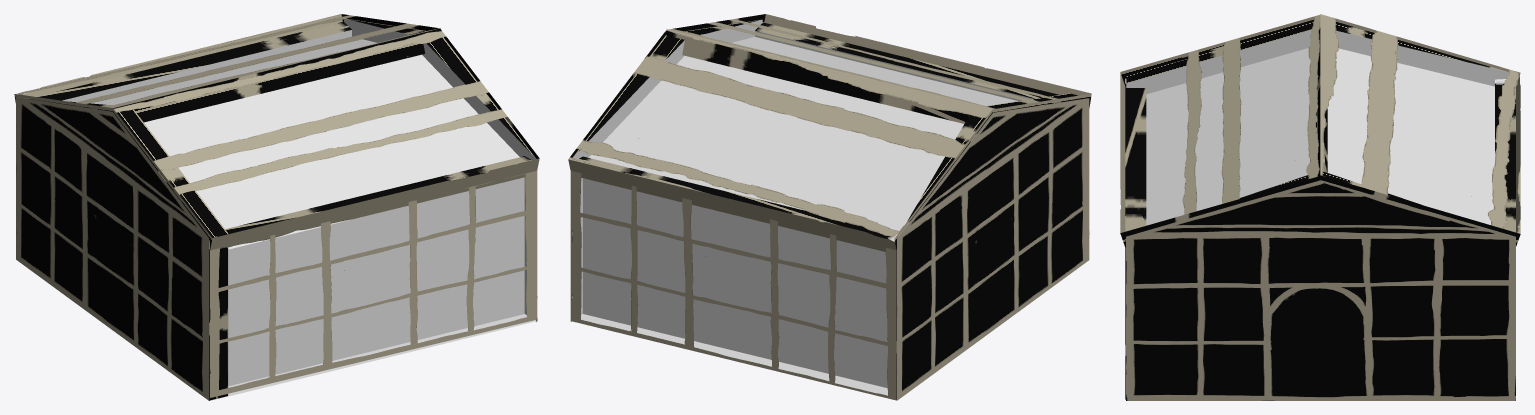
File: greenhouse54.fbx
3 views of the same model, side by side, from view 1: azimuth 30°, elevation 25°; view 2: azimuth 150°, elevation 25°; view 3: azimuth 270°, elevation 25° (orthographic).
Visible parts, largest first — view 1: Cube.001; view 2: Cube.001; view 3: Cube.001.
Part boxes in pixels (<box>): Cube.001: <box>14,14,539,400</box>; Cube.001: <box>568,14,1091,400</box>; Cube.001: <box>1120,14,1520,400</box>.
Bounding box in the file's own units: 235 × 153 × 246.
Materials: 4 (3 with a texture image).
